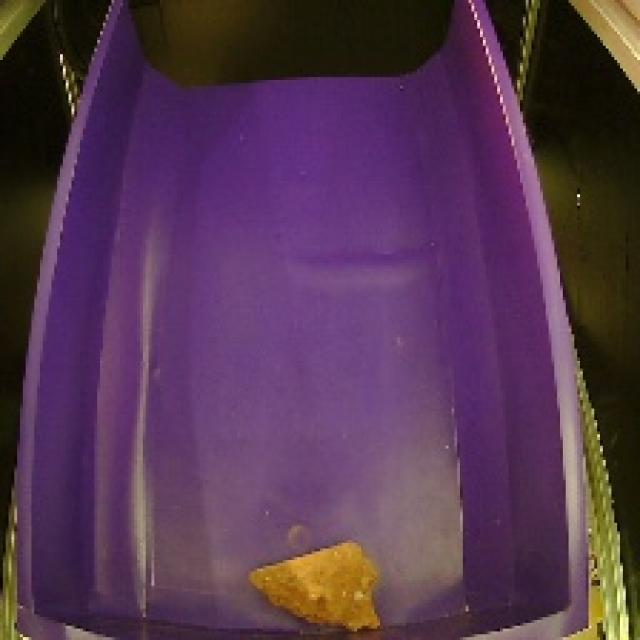brick: (238, 531, 392, 640)
